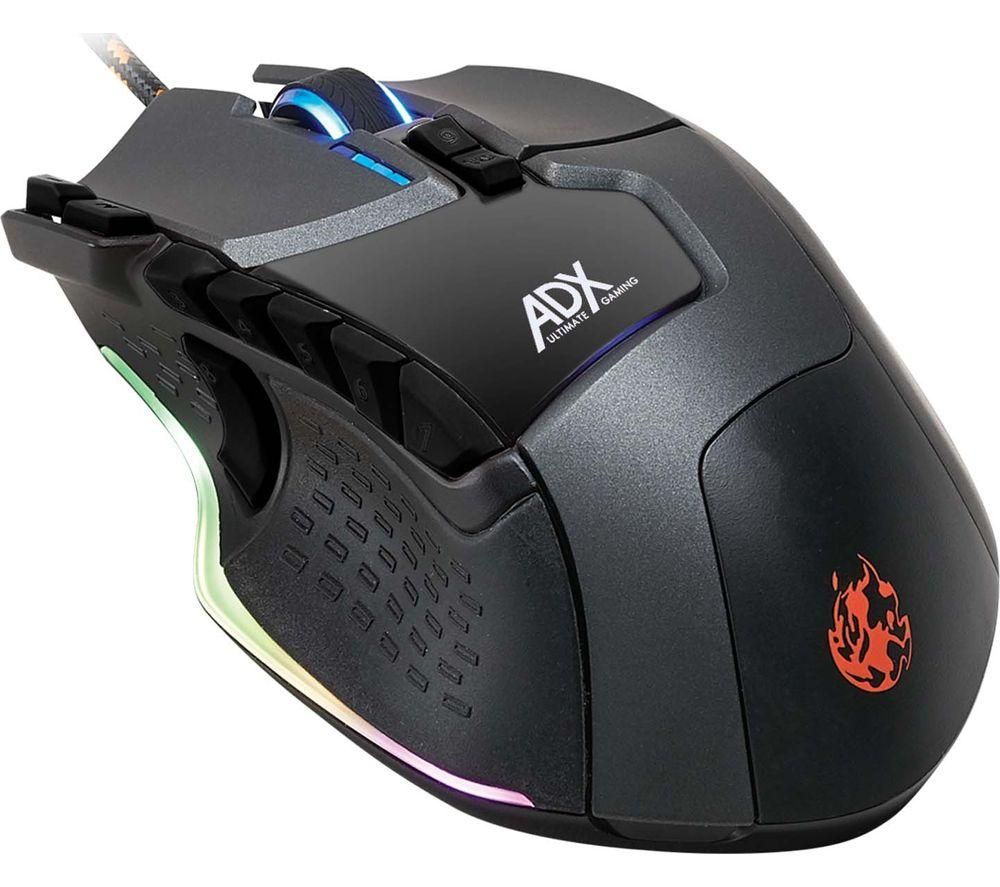Mouse: (2, 52, 1000, 850)
